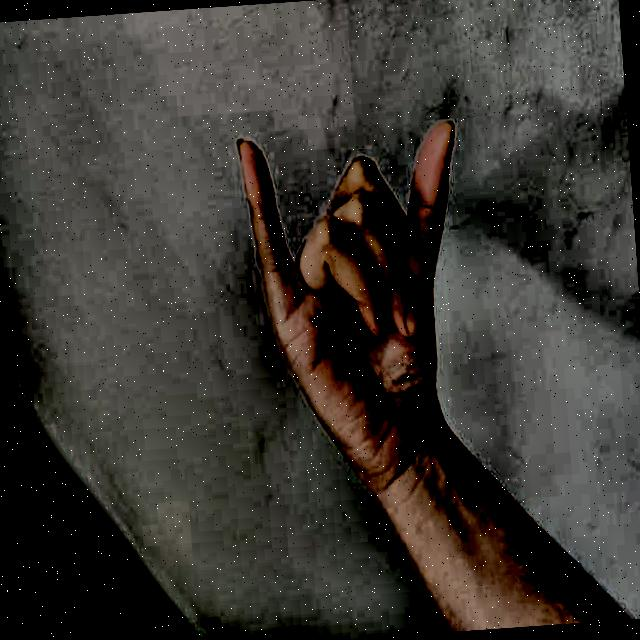Oi: (207, 72, 515, 515)
